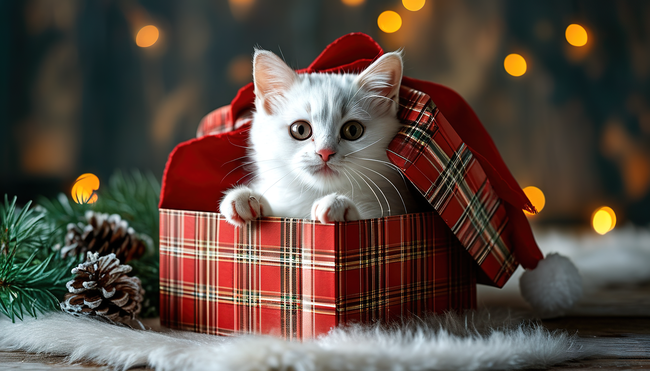cat: (217, 42, 404, 227)
